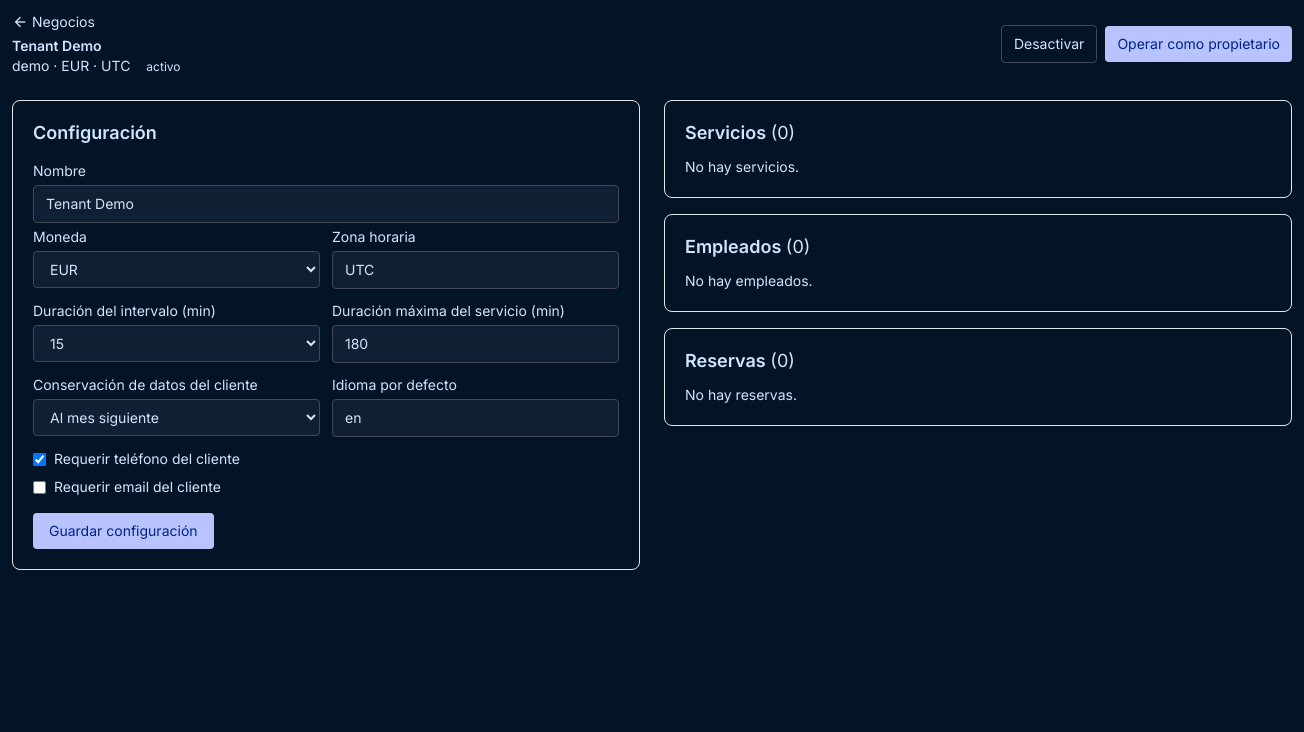
Test case: AdminTenantDetail (F4.0) › locale es → validación de maxServiceDuration en español
Expected: the field showing "Tenant Demo" is shown, [33,185,619,223]
Step 1. Replace the text in the number field labelled "Duración máxima del servicio (min)" with "200" → (476, 344), box [332,325,619,363]
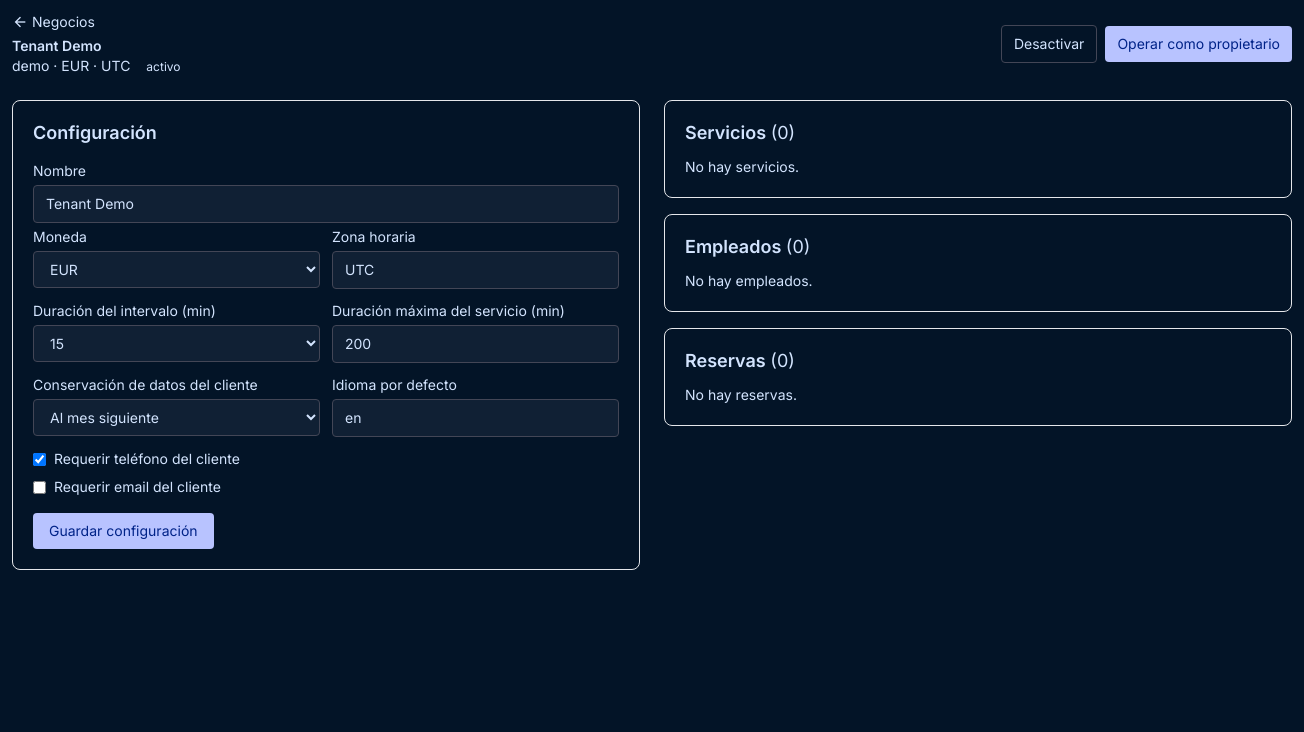
Step 2. Submit the form, box [12,100,640,570]
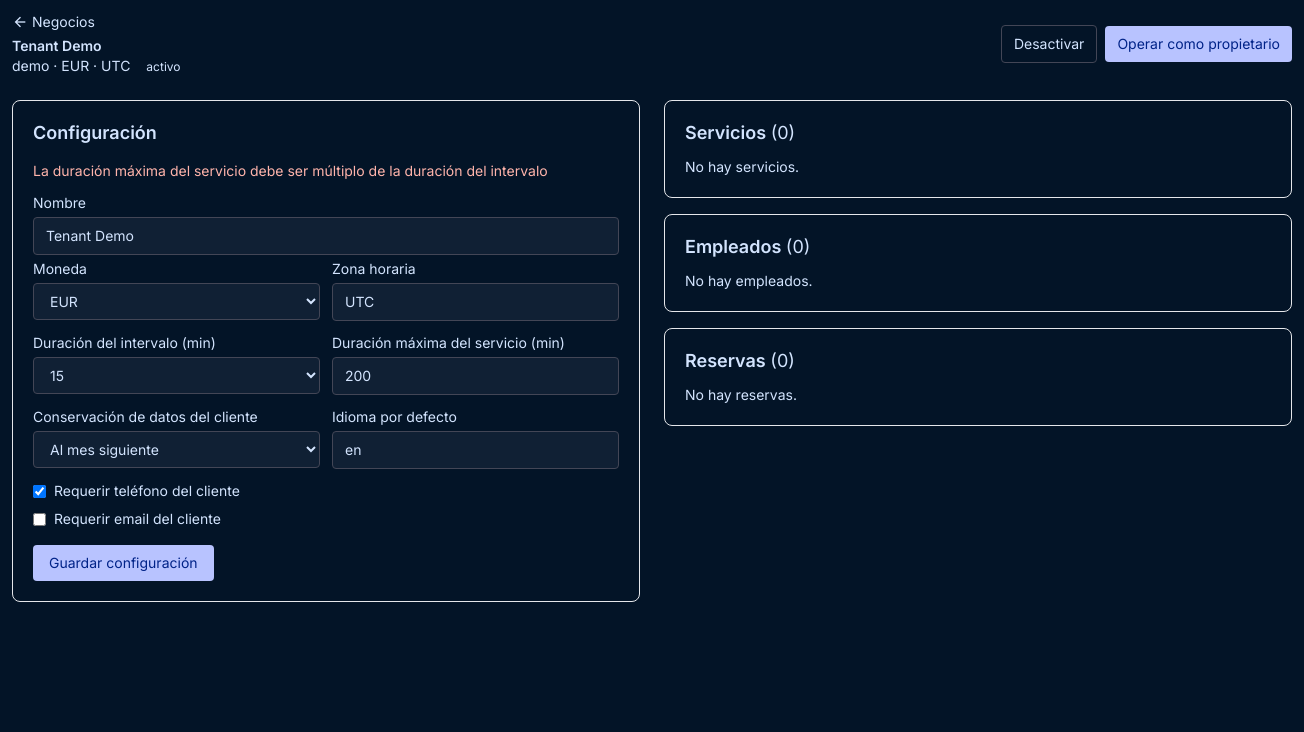
Now the text "La duración máxima del servicio debe ser múltiplo de la duración del intervalo" is shown, box [33,161,619,181]
